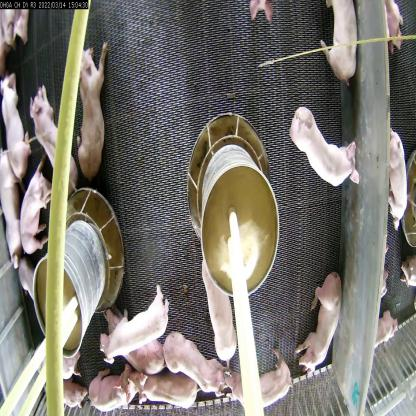Pig: (288, 106, 364, 202), (100, 290, 165, 371), (197, 261, 243, 369), (74, 39, 111, 173), (295, 277, 338, 385), (31, 94, 78, 190), (314, 0, 361, 92), (171, 334, 231, 398), (13, 171, 52, 268), (141, 365, 210, 415), (238, 362, 296, 415), (95, 369, 160, 416), (0, 79, 28, 175), (0, 147, 21, 267)
